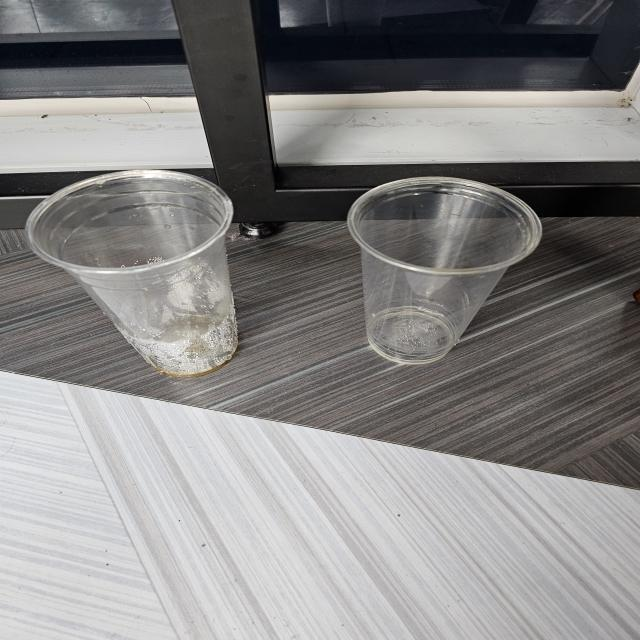cup: (28, 168, 258, 380), (342, 173, 550, 368)
